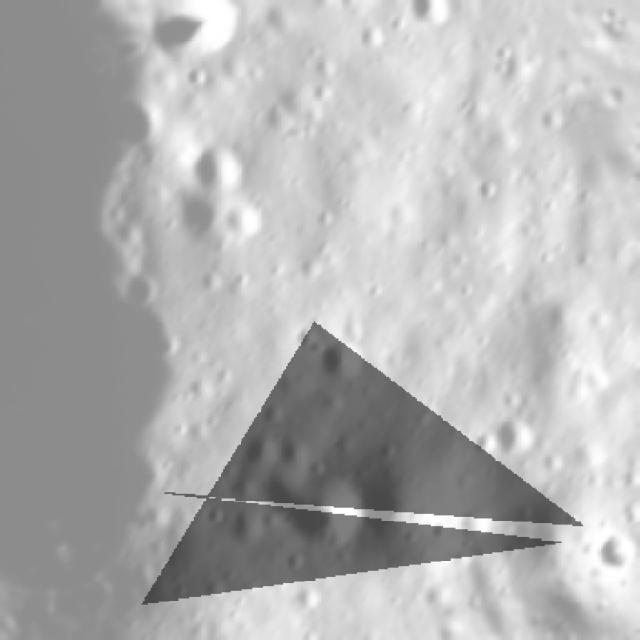crater: (300, 424, 442, 567), (170, 178, 241, 250), (482, 403, 549, 474), (311, 324, 383, 390), (190, 132, 256, 200), (402, 0, 462, 40), (355, 20, 390, 57)
